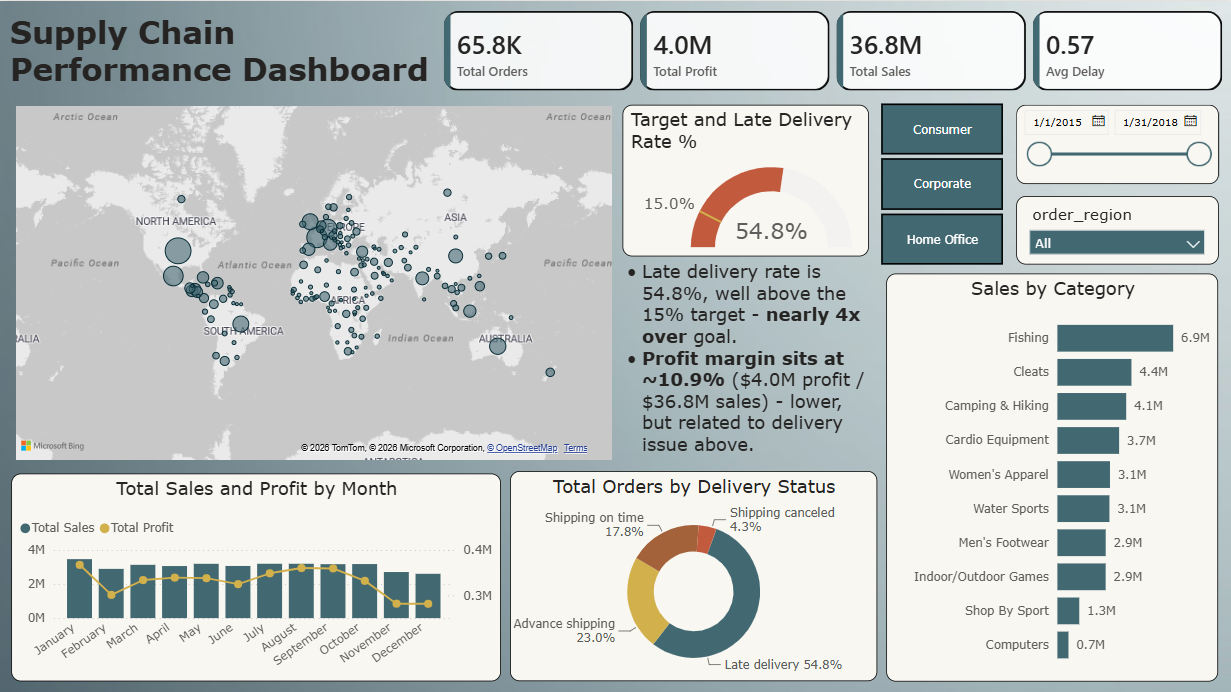

What the dashboard file says about the page in this screenshot:
{"tool":"powerbi","page":{"name":"Executive Overview","canvas":[1280,720],"ordinal":0},"visuals":[{"type":"slicer","fields":{"Values":["dim_customers.customer_segment"]},"box":[895,102,166.2,175],"z":0},{"type":"textbox","box":[11,8.2,439.1,90.6],"z":1000},{"type":"cardVisual","fields":{"Data":["_Measures.Total Orders","_Measures.Total Profit","_Measures.Total Sales","_Measures.Avg Delivery Delay"]},"box":[450,0,830,103.8],"z":2000},{"type":"lineStackedColumnComboChart","title":"Total Sales and Profit by Month","fields":{"Category":["fact_orders.order_date.Variation.Date Hierarchy.Month"],"Y":["_Measures.Total Sales"],"Y2":["_Measures.Total Profit"]},"box":[11.2,491.2,508.8,216.2],"z":3000},{"type":"donutChart","title":"Total Orders by Delivery Status","fields":{"Category":["fact_orders.delivery_status"],"Y":["_Measures.Total Orders"]},"box":[530,488.8,381.2,218.8],"z":4000},{"type":"barChart","title":"Sales by Category","fields":{"Category":["dim_categories.category_name"],"Y":["_Measures.Total Sales"]},"box":[921.2,283.8,345,423.8],"z":5000},{"type":"slicer","fields":{"Values":["fact_orders.order_region"]},"box":[1056.2,202.5,210,71.2],"z":6000},{"type":"gauge","title":"Target and Late Delivery Rate %","fields":{"Y":["_Measures.Late Delivery Rate %"],"TargetValue":["_Measures.Target Late Rate"]},"box":[646.2,107.5,256.2,157.5],"z":7000},{"type":"slicer","fields":{"Values":["fact_orders.order_date"]},"box":[1056.2,107.5,210,82.5],"z":8000},{"type":"map","fields":{"Size":["_Measures.Total Sales"],"Category":["fact_orders.order_country"]},"box":[11.2,103.8,628.8,377.5],"z":9000},{"type":"textbox","box":[639.5,264.8,271.7,216.8],"z":10000}]}

Visuals, with their boxes in screenshot pixels (x1, y1, x2, y2), scaled from the page's 1280x720 canvas onto the 1231x692 screenshot:
slicer - dim_customers.customer_segment: [861,98,1021,266]
textbox: [11,8,433,95]
cardVisual - _Measures.Total Orders x _Measures.Total Profit: [433,0,1230,100]
"Total Sales and Profit by Month" lineStackedColumnComboChart: [11,472,500,680]
"Total Orders by Delivery Status" donutChart: [510,470,876,680]
"Sales by Category" barChart: [886,273,1218,680]
slicer - fact_orders.order_region: [1016,195,1218,263]
"Target and Late Delivery Rate %" gauge: [621,103,868,255]
slicer - fact_orders.order_date: [1016,103,1218,183]
map - _Measures.Total Sales x fact_orders.order_country: [11,100,616,463]
textbox: [615,255,876,463]
